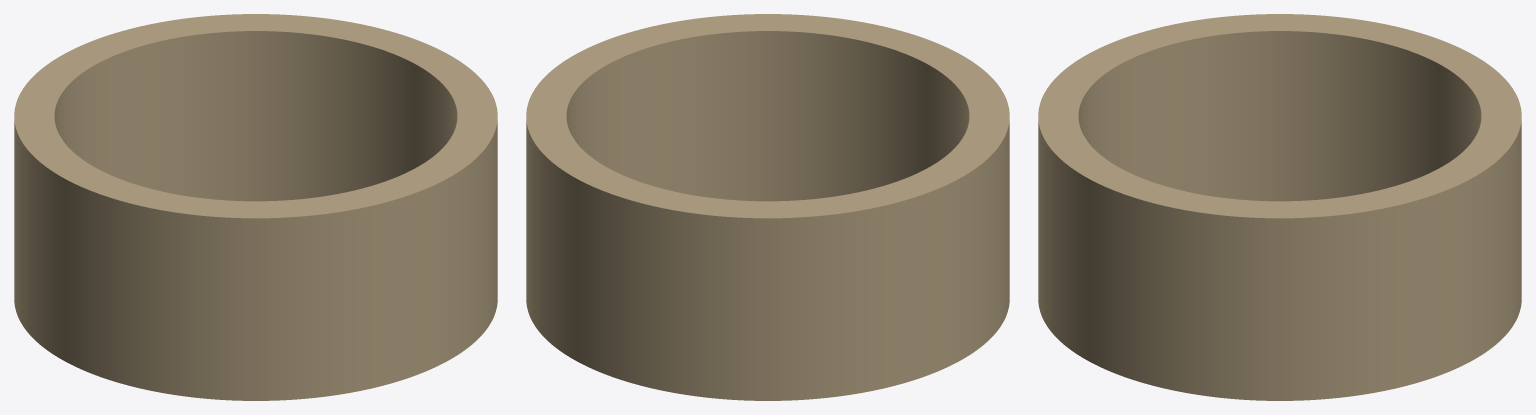
The model's file is esp2023_p23_collar_bush.glb.
The picture shows the model from 3 angles, left to right: view 1: azimuth 30°, elevation 25°; view 2: azimuth 150°, elevation 25°; view 3: azimuth 270°, elevation 25°; orthographic projection.
Parts seen in each view (by area): view 1: collar bush; view 2: collar bush; view 3: collar bush.
Boxes of the visible parts, x1,y1,x2,y2 form: collar bush: (14,14,497,400); collar bush: (526,14,1009,400); collar bush: (1038,14,1521,400).
Bounding box in the file's own units: 240 × 100 × 240.
